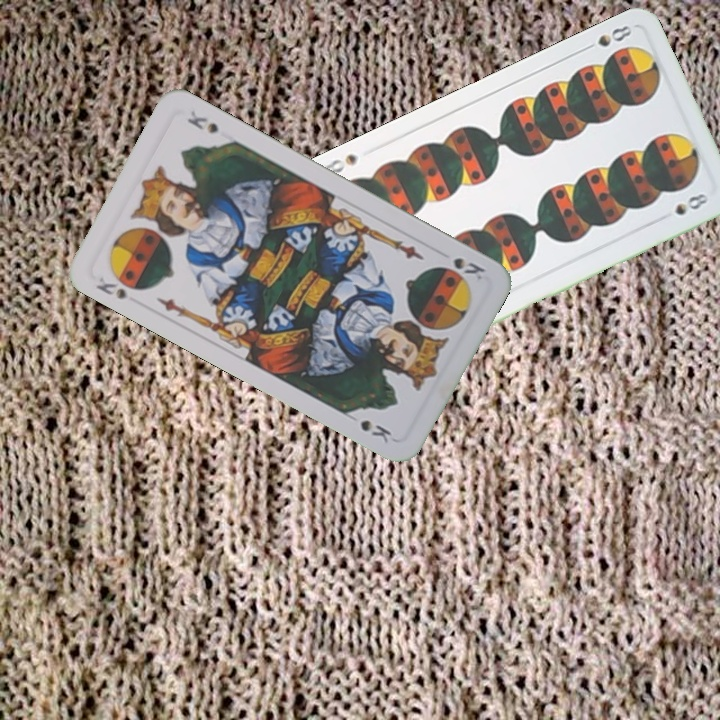S8: (578, 21, 635, 54)
SK: (449, 253, 488, 283), (92, 273, 129, 302)
